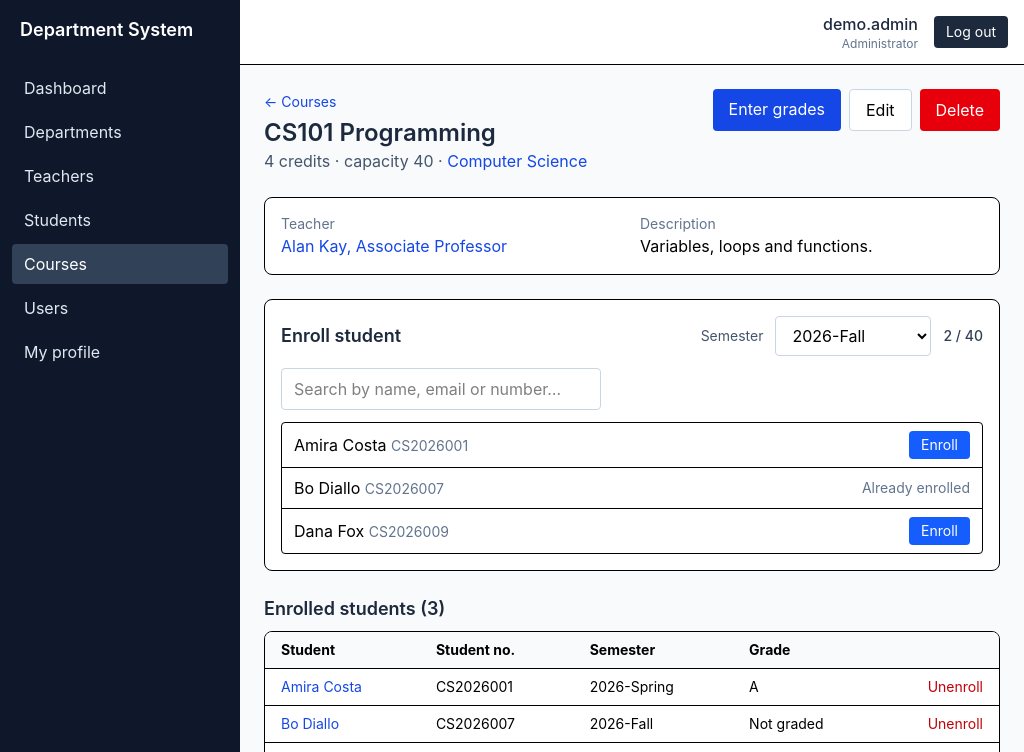
Test case: errors are shown clearly › duplicate: the server message is shown in the panel
The image size is (1024, 752).
Click the button with aria-label "Enroll Dana Fox" at (940, 531), box 909,517 -> 970,545
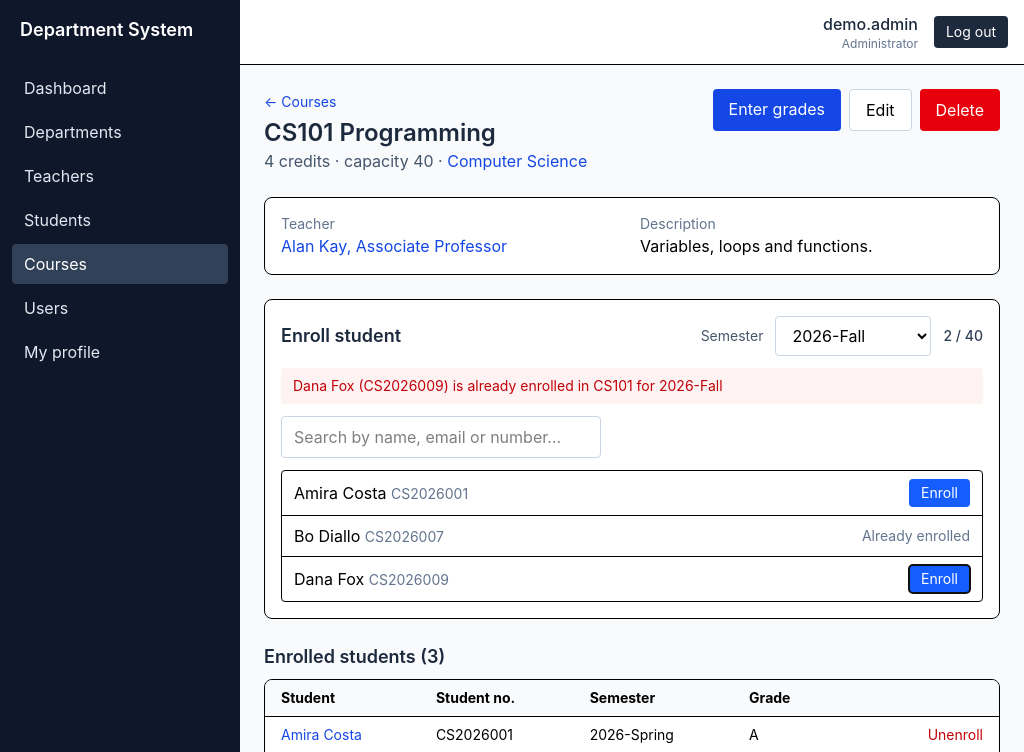
Expected: the message reads "Dana Fox (CS2026009) is already enrolled in CS101 for 2026-Fall", 293,377 -> 723,394
